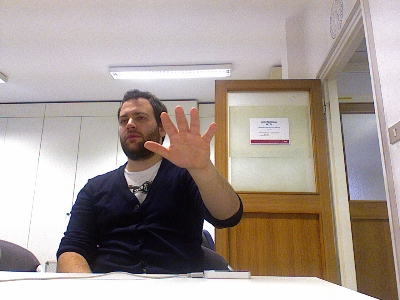布: (141, 103, 219, 171)
